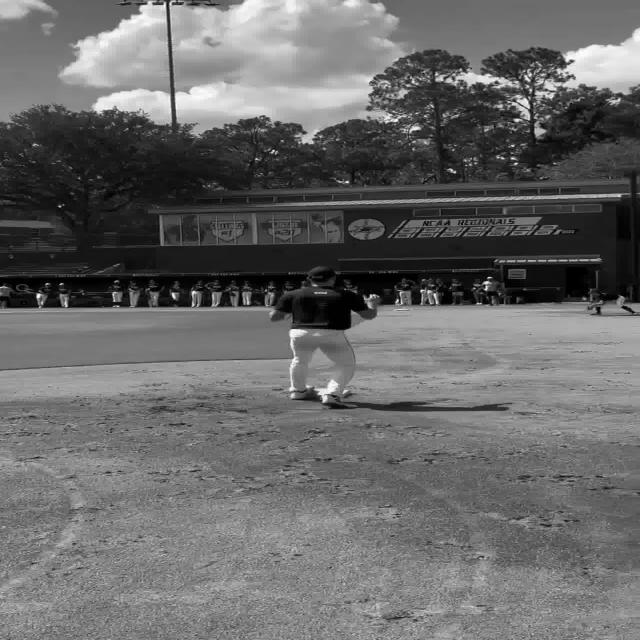base: (307, 386, 329, 400), (342, 389, 353, 399)
shoe: (289, 388, 320, 401), (322, 394, 347, 409)
